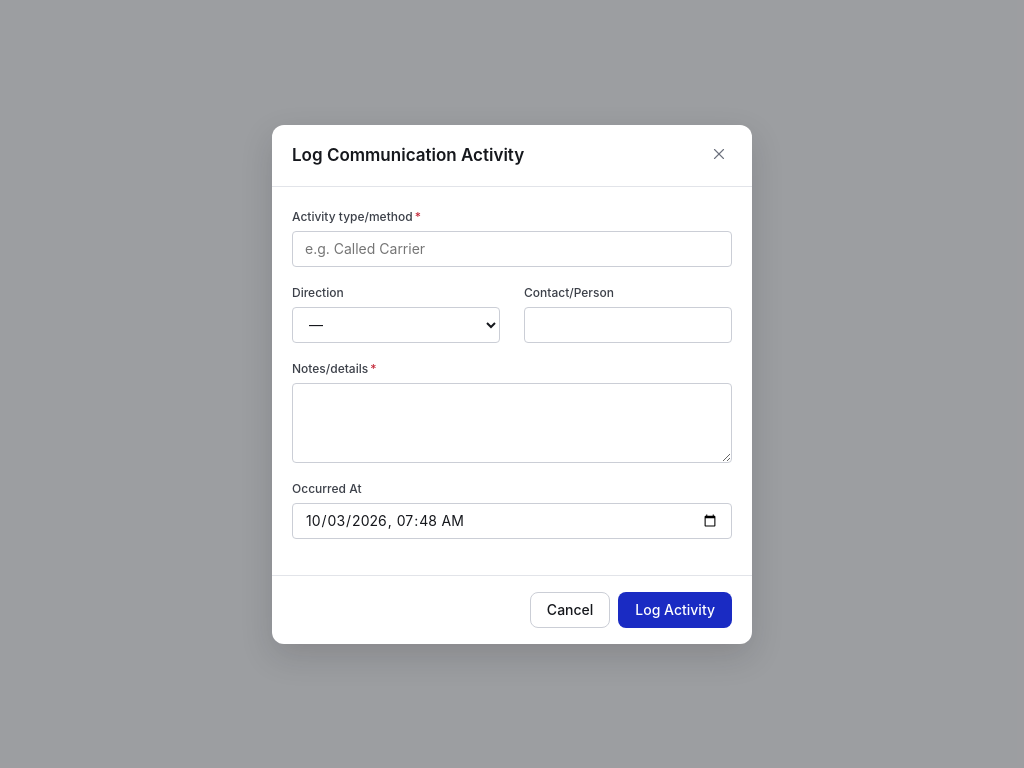
LogCommunicationActivityModal — Frontend Phase 7 › shows validation errors and never submits when required fields are empty
Click the button "Log Activity" at (675, 610), box [618,592,732,628]
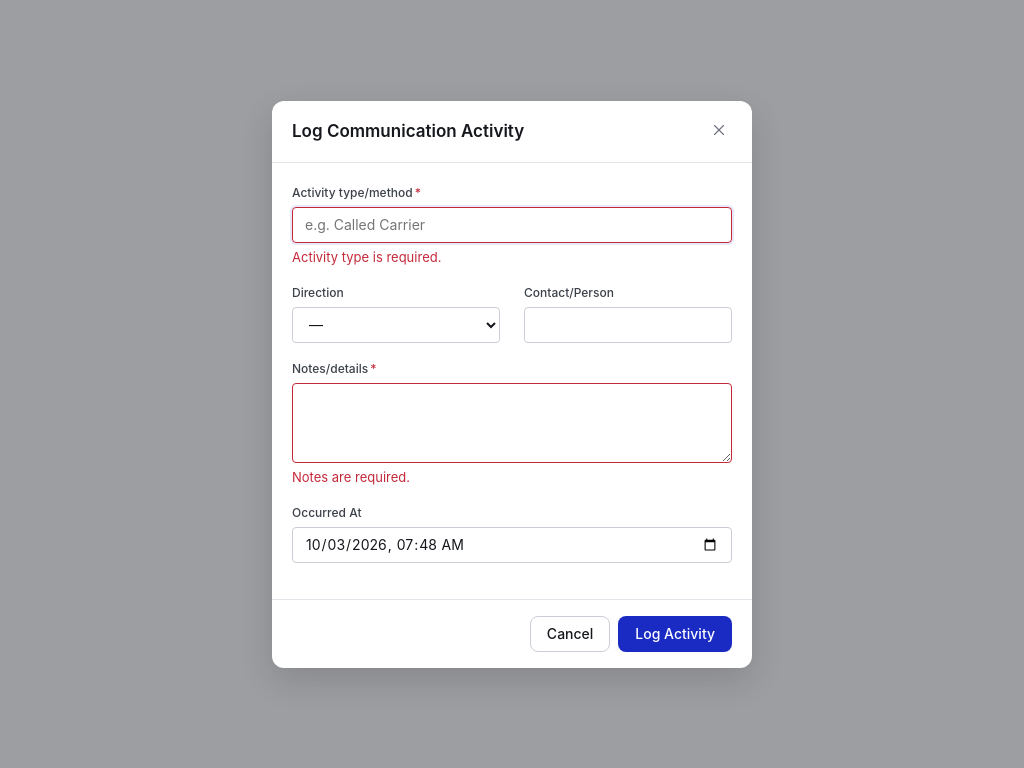
Check: the text "Activity type is required." is shown, box [292,248,441,264]
Check: the text "Notes are required." is shown, box [292,468,410,484]
